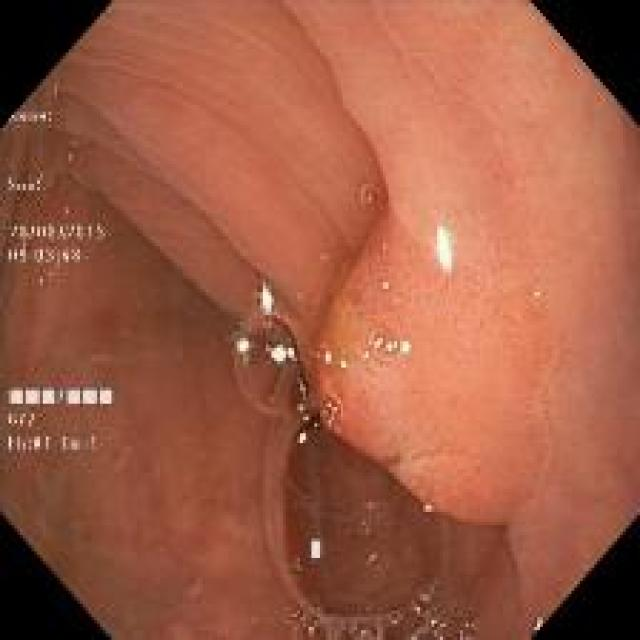Polyps: (292, 3, 640, 631)
